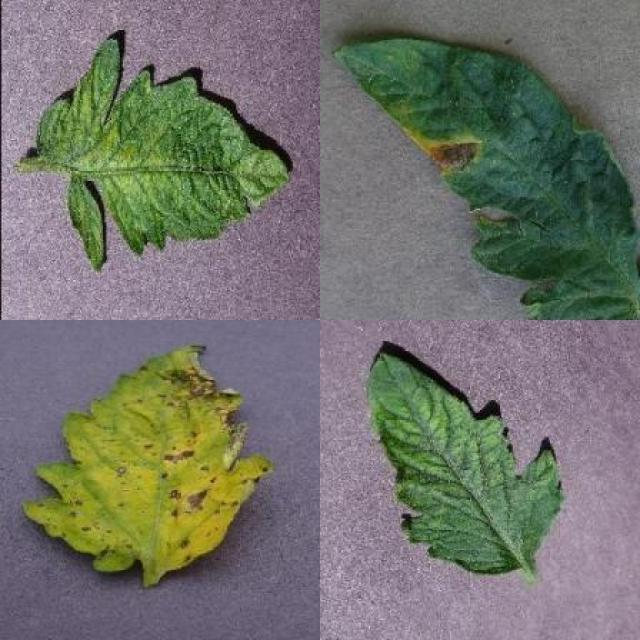Early Blight: (331, 33, 640, 320)
Mosaic Virus: (34, 38, 294, 275), (364, 346, 566, 574)
Septoria: (23, 344, 276, 584)
